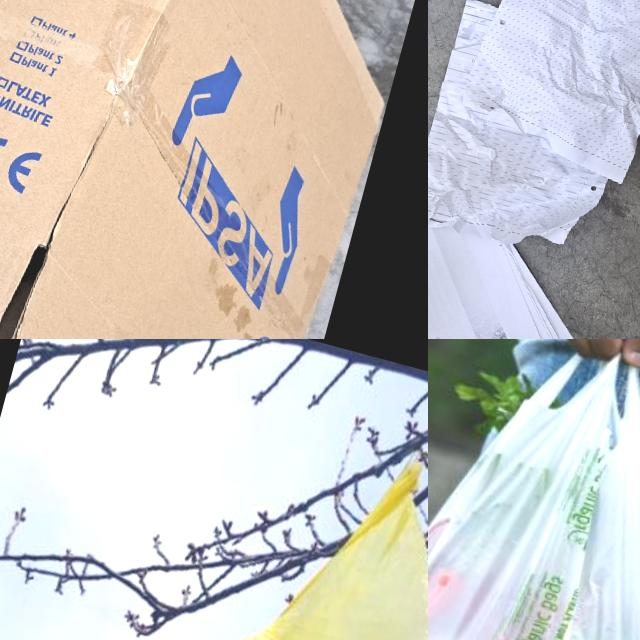papel: (428, 0, 640, 276), (428, 156, 640, 339)
papelão: (0, 0, 428, 339)
sacola plástica: (428, 339, 640, 640), (170, 420, 428, 640)
